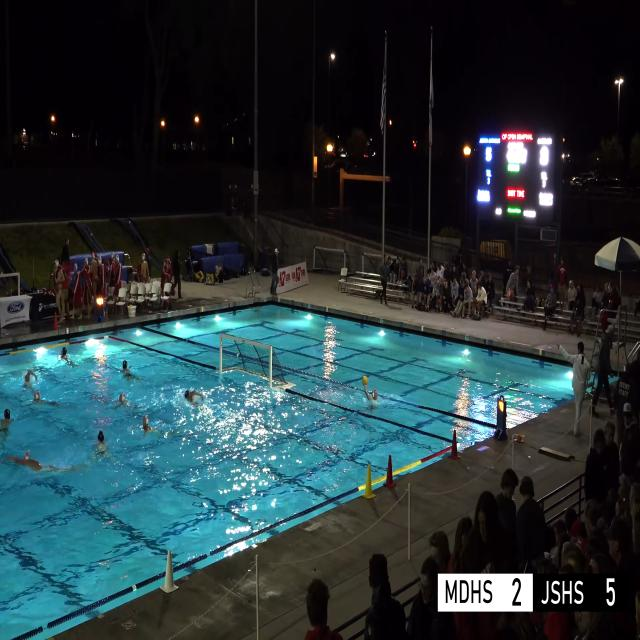ball: (362, 376, 368, 386), (129, 305, 132, 307)
